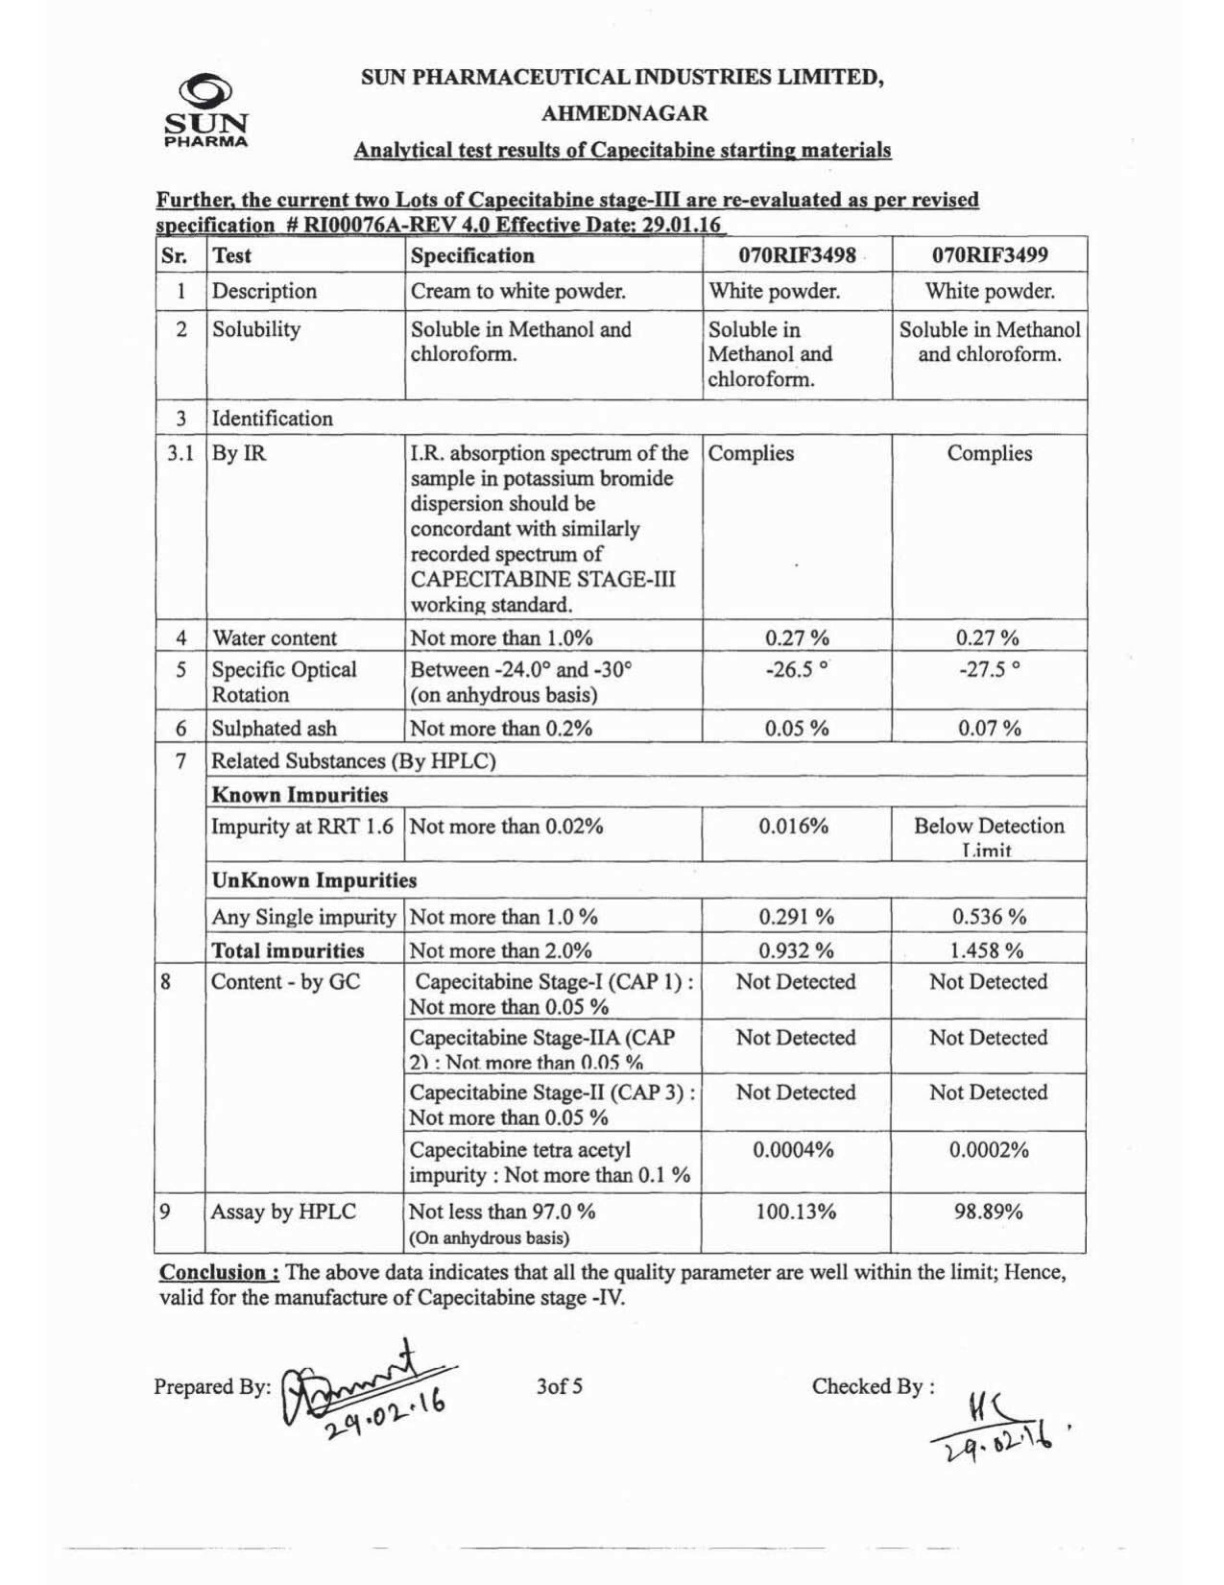merged_cells: (153, 233, 1090, 1255)
